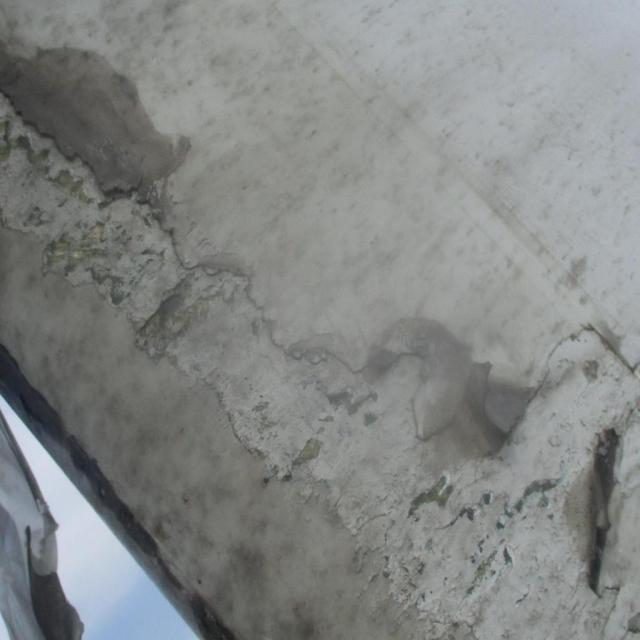corrosion: (388, 321, 628, 630), (193, 274, 388, 572), (0, 96, 188, 366)
